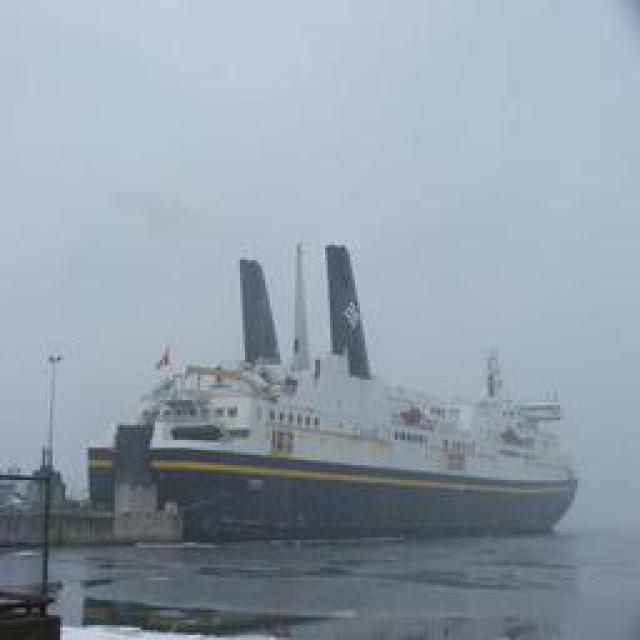Ship: (144, 231, 579, 536)
